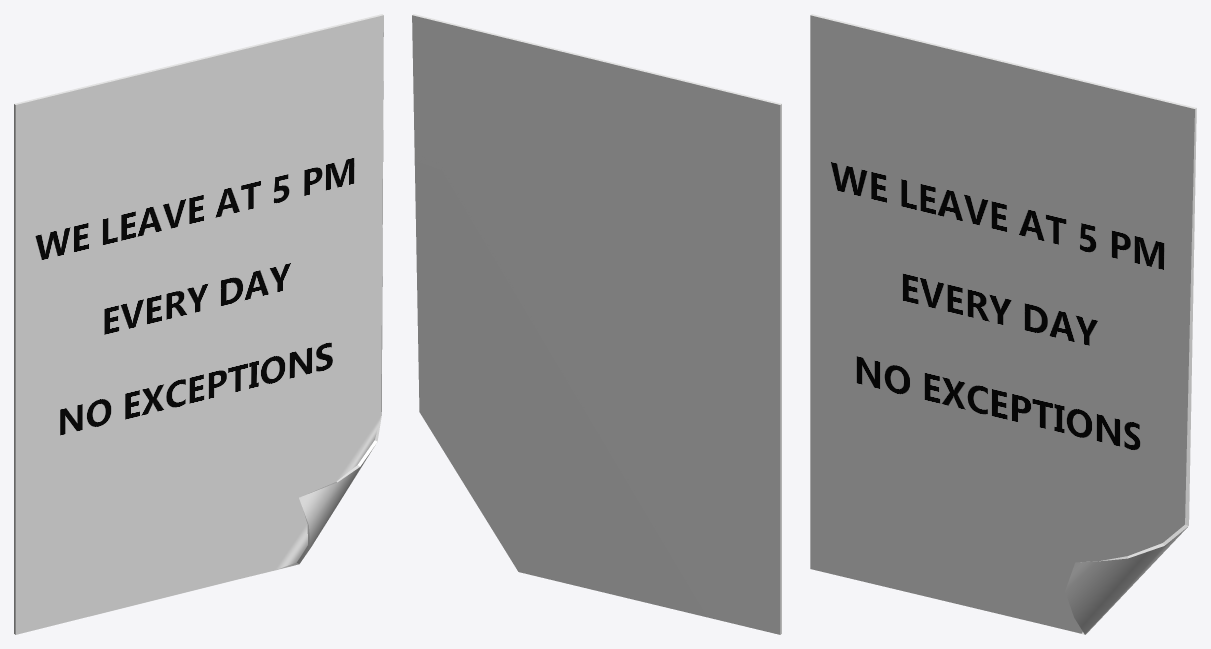
Rendered from poster.fbx.
3 views of the same model, side by side, from view 1: azimuth 30°, elevation 25°; view 2: azimuth 150°, elevation 25°; view 3: azimuth 330°, elevation 25° (orthographic). The views are drawn at different scales.
Visible parts, largest first — view 1: Poster; view 2: Poster; view 3: Poster.
Part boxes in pixels (x1=…): Poster: x1=14, y1=14, x2=383, y2=634; Poster: x1=412, y1=14, x2=781, y2=634; Poster: x1=810, y1=14, x2=1196, y2=634.
Size of the model in its own units: 800 by 1101 by 99.93.
Materials: 1 (1 with a texture image).
